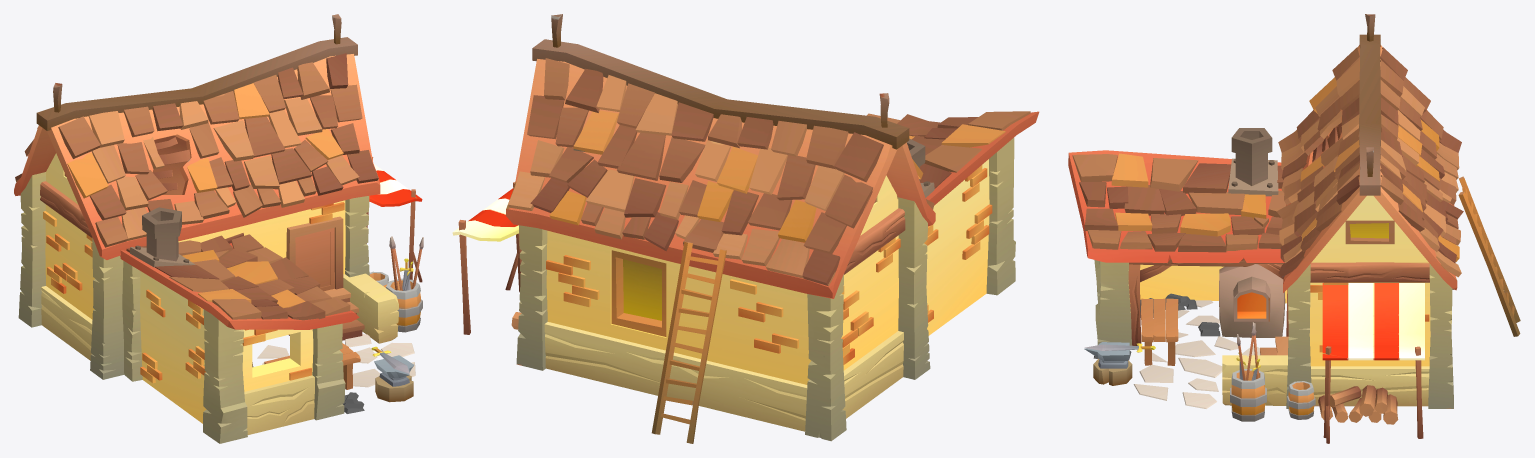
Rendered from forge_version3.glb.
3 views of the same model, side by side, from view 1: azimuth 30°, elevation 25°; view 2: azimuth 150°, elevation 25°; view 3: azimuth 270°, elevation 25° (orthographic). The views are drawn at different scales.
Parts seen in each view (by area): view 1: Cube_0; view 2: Cube_0; view 3: Cube_0.
Part boxes in pixels (x1,y1,x2,y2): Cube_0: (14,14,422,443); Cube_0: (452,14,1039,443); Cube_0: (1068,14,1520,443).
Size of the model in its own units: 10.36 by 7.33 by 11.37.
Materials: 1 (1 with a texture image).
